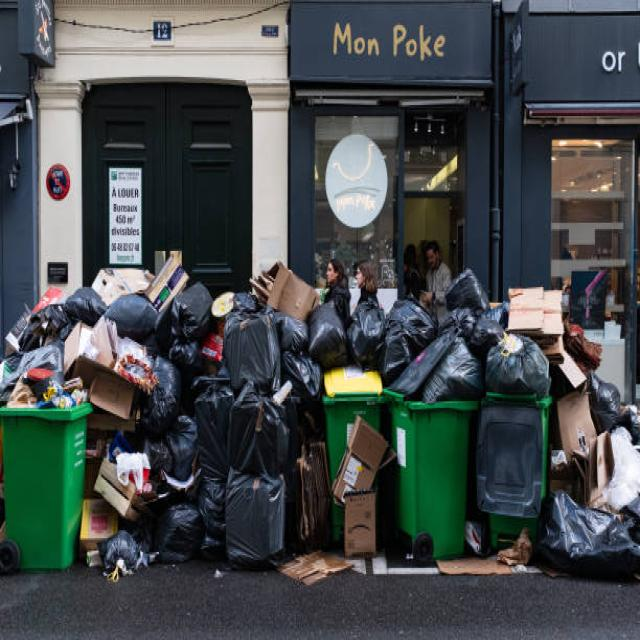cardboard: (499, 284, 567, 343), (556, 364, 595, 456)
trash: (6, 272, 474, 562)
